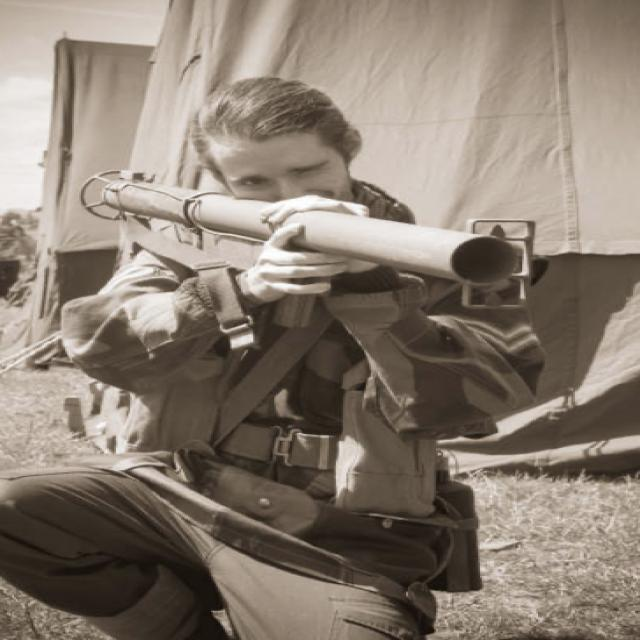bazooka: (91, 158, 567, 309)
